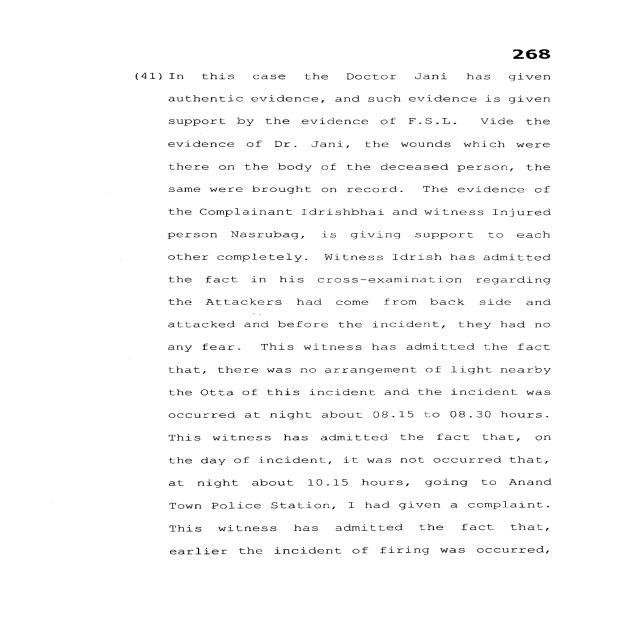page-number: (434, 1, 634, 65)
